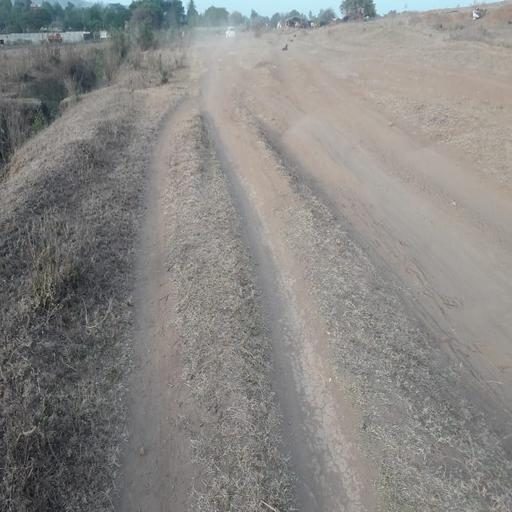vehicle_track: (204, 93, 387, 512), (277, 114, 512, 438), (117, 97, 199, 512), (326, 79, 512, 233)
